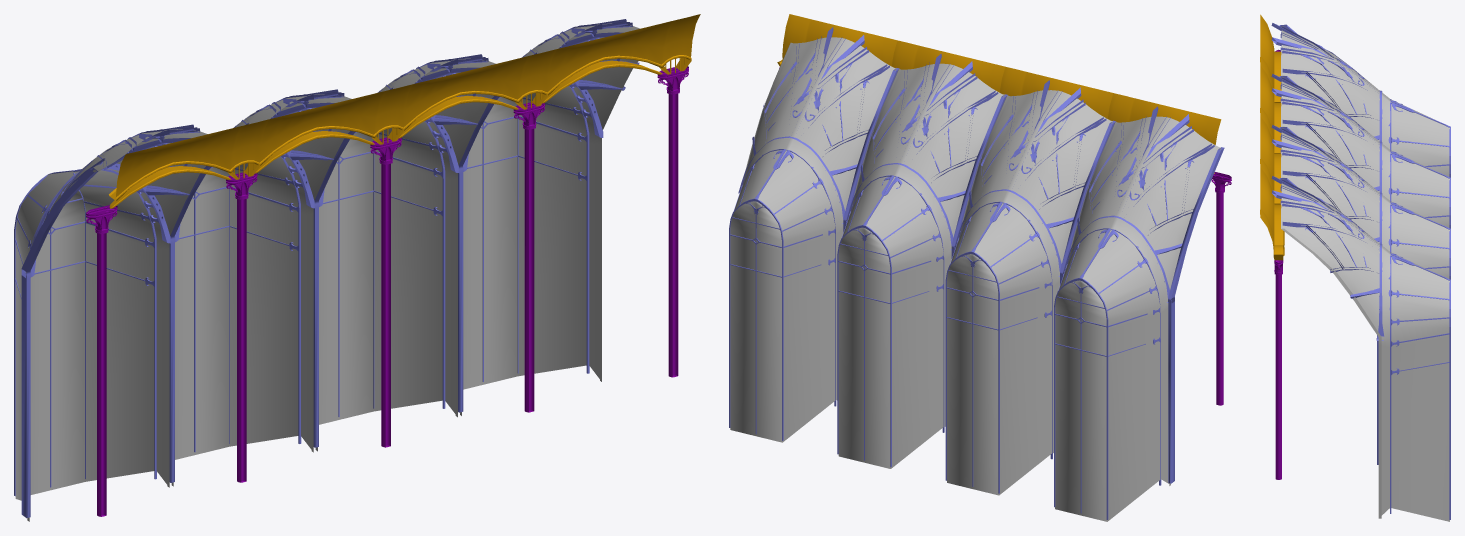
The model's file is BackFinished1.fbx.
The picture shows the model from 3 angles, left to right: view 1: azimuth 30°, elevation 25°; view 2: azimuth 150°, elevation 25°; view 3: azimuth 270°, elevation 25°; orthographic projection. The views are drawn at different scales.
Parts seen in each view (by area): view 1: Window5, Window2, Window3, Window4, polySurface92 (×4), MidDomeFrame5, MidDomeFrame3, MidDomeFrame2, MidDomeFrame4, Ceiling6, Ceiling4, Ceiling5 (+2 smaller); view 2: Window5, Window3, Window4, Window2, MidDomeFrame5, MidDomeFrame3, MidDomeFrame4, MidDomeFrame2, Ceiling4, Ceiling5, Ceiling3, Ceiling6 (+1 smaller); view 3: Window3, Window2, Window5, Window4, MidDomeFrame3, MidDomeFrame5, MidDomeFrame2, MidDomeFrame4, polySurface93, Ceiling4, Ceiling5, Ceiling6 (+1 smaller).
Part boxes in pixels (left/top/right/bottom): Window5: left=15, top=129, right=207, bottom=521; Window2: left=315, top=58, right=495, bottom=451; Window3: left=460, top=23, right=639, bottom=415; Window4: left=171, top=94, right=351, bottom=486; polySurface92 (×4): left=86, top=102, right=545, bottom=516; MidDomeFrame5: left=14, top=124, right=200, bottom=518; MidDomeFrame3: left=458, top=19, right=639, bottom=412; MidDomeFrame2: left=313, top=54, right=491, bottom=447; MidDomeFrame4: left=169, top=89, right=345, bottom=482; Ceiling6: left=109, top=119, right=268, bottom=208; Ceiling4: left=543, top=14, right=700, bottom=103; Ceiling5: left=255, top=84, right=412, bottom=173; Window5: left=1055, top=116, right=1220, bottom=521; Window3: left=730, top=37, right=896, bottom=442; Window4: left=947, top=90, right=1112, bottom=495; Window2: left=838, top=63, right=1004, bottom=468; MidDomeFrame5: left=1054, top=106, right=1224, bottom=519; MidDomeFrame3: left=729, top=27, right=899, bottom=440; MidDomeFrame4: left=945, top=80, right=1116, bottom=493; MidDomeFrame2: left=837, top=54, right=1007, bottom=467; Ceiling4: left=777, top=14, right=897, bottom=66; Ceiling5: left=999, top=66, right=1113, bottom=118; Ceiling3: left=891, top=40, right=1005, bottom=92; Ceiling6: left=1107, top=93, right=1221, bottom=173; Window3: left=1281, top=179, right=1449, bottom=521; Window2: left=1281, top=128, right=1449, bottom=278; Window5: left=1281, top=26, right=1449, bottom=176; Window4: left=1281, top=77, right=1449, bottom=227; MidDomeFrame3: left=1271, top=176, right=1450, bottom=519; MidDomeFrame5: left=1271, top=23, right=1450, bottom=177; MidDomeFrame2: left=1271, top=125, right=1450, bottom=279; MidDomeFrame4: left=1271, top=74, right=1450, bottom=228; polySurface93: left=1274, top=260, right=1283, bottom=479; Ceiling4: left=1260, top=167, right=1284, bottom=260; Ceiling5: left=1260, top=65, right=1281, bottom=153; Ceiling6: left=1260, top=14, right=1281, bottom=102.
Bounding box in the file's own units: 34.81 × 24.86 × 13.16.
